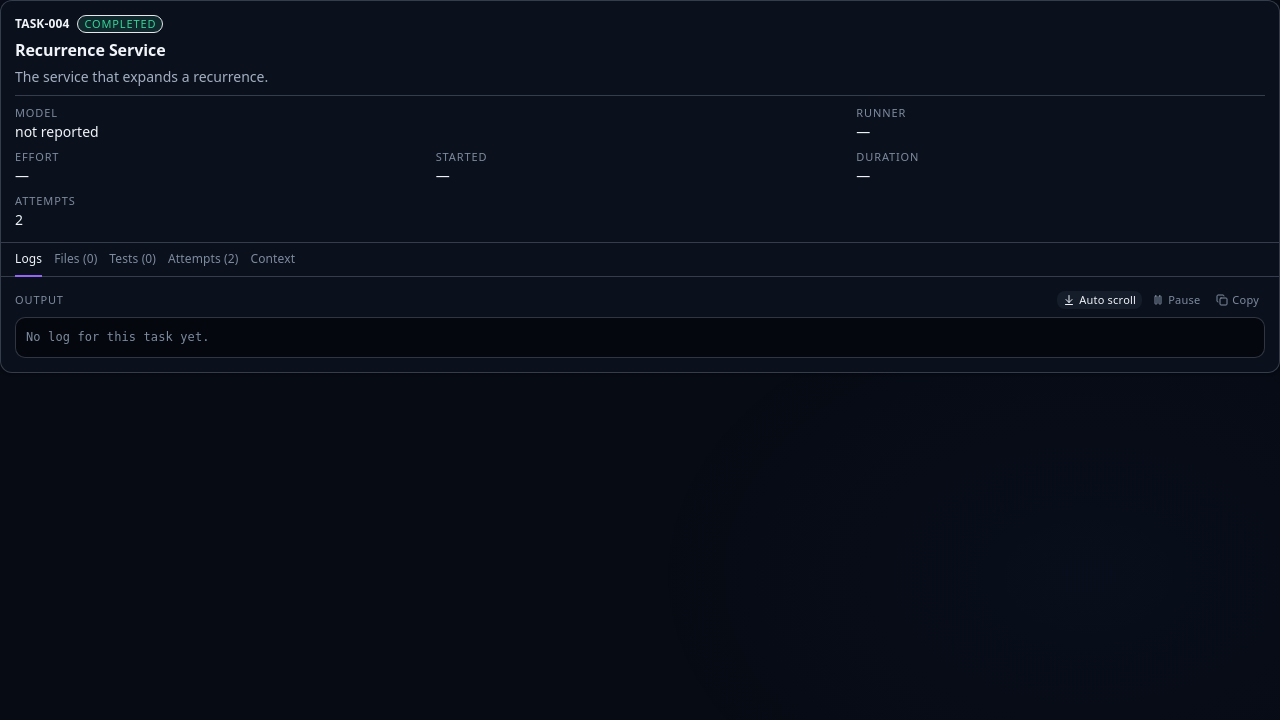
Test: Attempts › shows every attempt, its failure class and its own log — oldest first
Click the tab "Attempts (2)" at (203, 260), box [168,243,238,277]
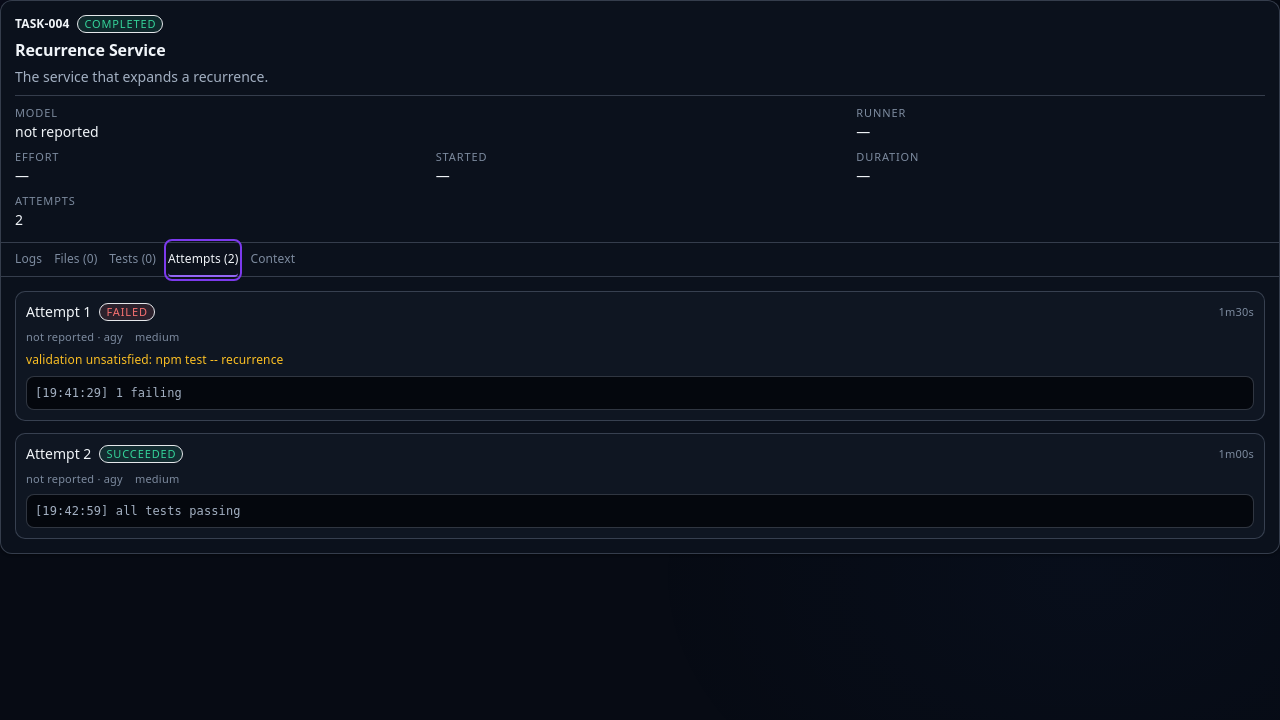
Expected: the text "Attempt 1" is shown, [26,302,155,322]
Expected: the text "validation unsatisfied: npm test -- recurrence" is shown, [26,351,283,368]
Expected: the text "[19:41:29] 1 failing" is shown, [26,376,1254,410]
